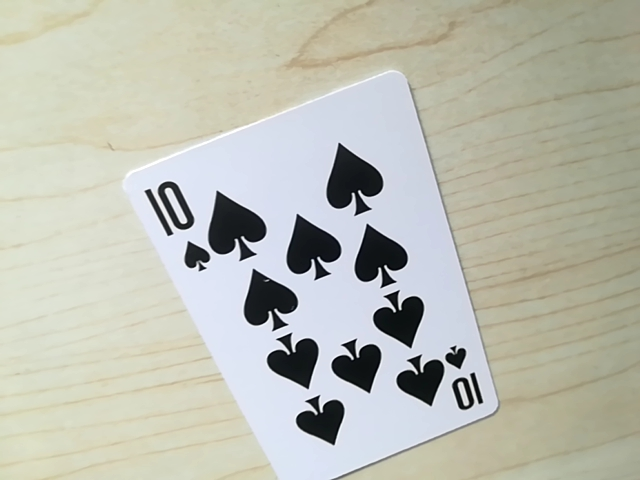ht 10: (145, 169, 208, 272), (446, 359, 486, 416)
